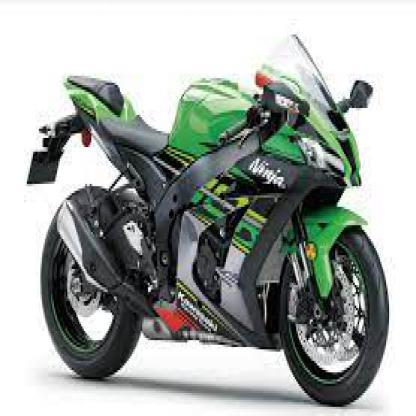Motorcycle: (28, 31, 392, 406)
